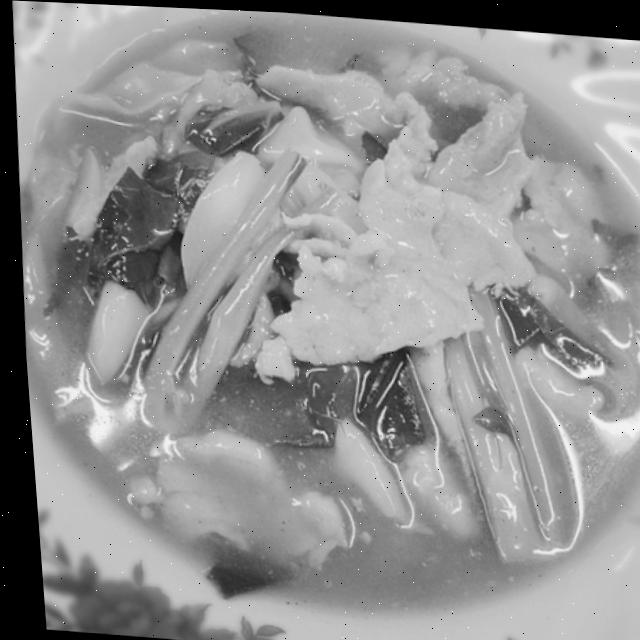面条主食: (17, 1, 640, 612)
